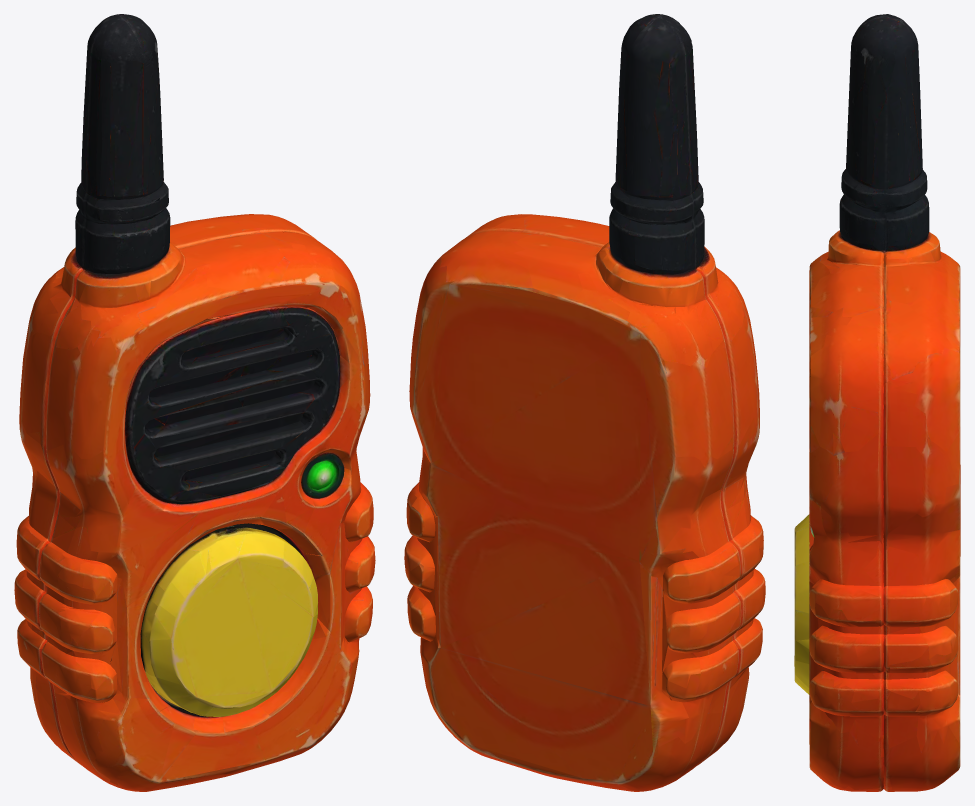
The model's file is walkie_talkie.glb.
3 views of the same model, side by side, from view 1: azimuth 30°, elevation 25°; view 2: azimuth 150°, elevation 25°; view 3: azimuth 270°, elevation 25° (orthographic). The views are drawn at different scales.
Visible parts, largest first — view 1: Mesh_0; view 2: Mesh_0; view 3: Mesh_0.
Part boxes in pixels (bbox=[...]): Mesh_0: bbox=[14, 14, 375, 791]; Mesh_0: bbox=[404, 14, 765, 791]; Mesh_0: bbox=[794, 14, 960, 791].
Bounding box in the file's own units: 0.4334 × 1 × 0.2118.
Materials: 1 (1 with a texture image).
